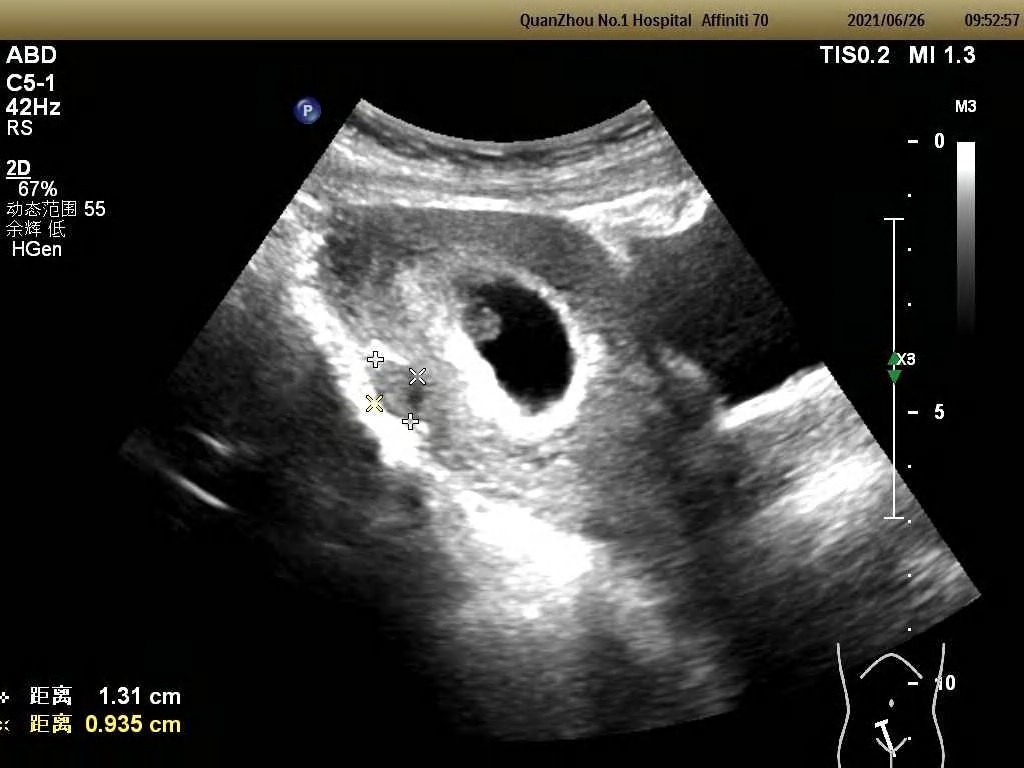肌瘤: (374, 359, 422, 419)
